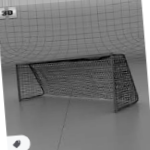goals: (14, 52, 140, 114)
